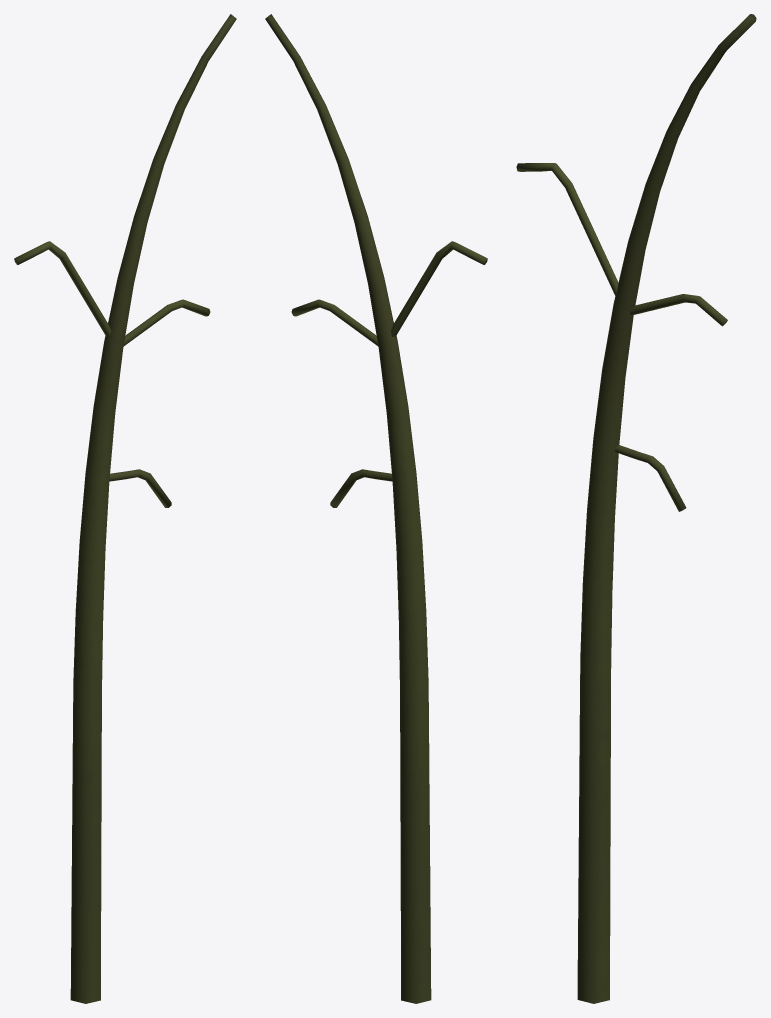
The model's file is Pepper_Plant.fbx.
The picture shows the model from 3 angles, left to right: view 1: azimuth 30°, elevation 25°; view 2: azimuth 150°, elevation 25°; view 3: azimuth 330°, elevation 25°; orthographic projection. The views are drawn at different scales.
Visible parts, largest first — view 1: Pepper_Plant; view 2: Pepper_Plant; view 3: Pepper_Plant.
Part boxes in pixels (x1,y1,x2,y2): Pepper_Plant: (14, 14, 236, 1003); Pepper_Plant: (265, 14, 487, 1003); Pepper_Plant: (516, 14, 756, 1003).
Size of the model in its own units: 40.94 by 168 by 4.82.
